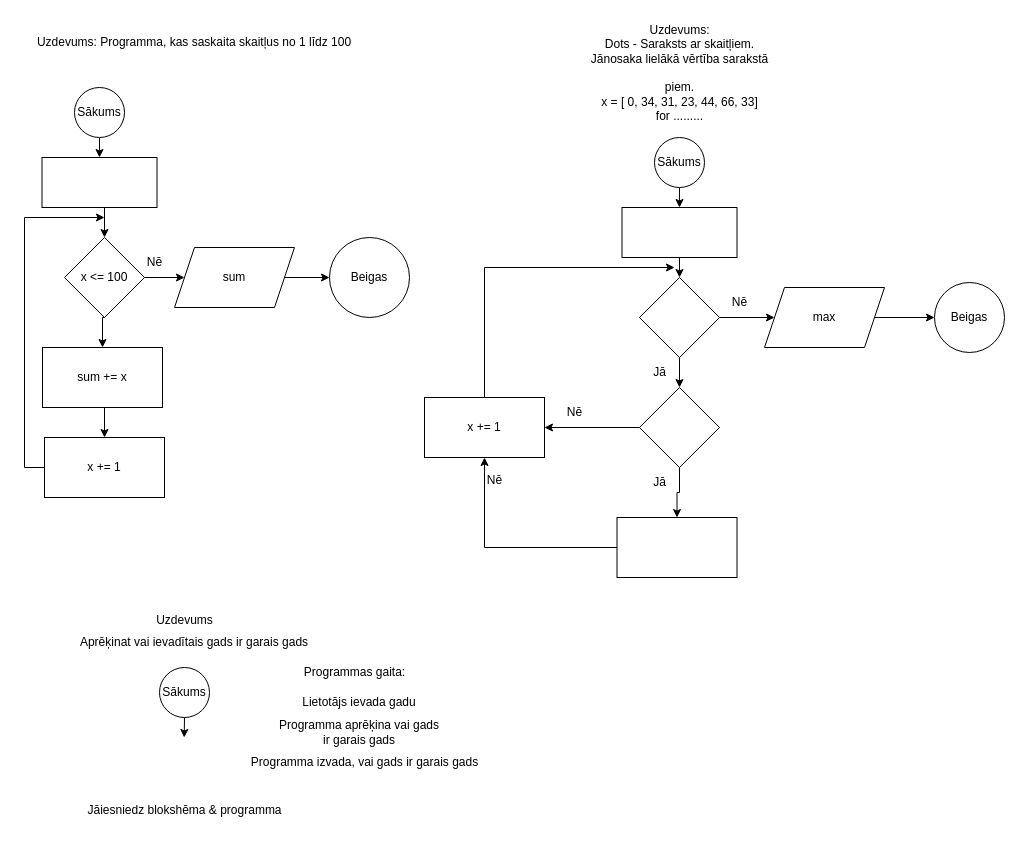
Some shapes in this 1022 by 842 pixel diagram are drawn without their labels. The centre of each missing label's shape, as x and y in pixels:
arr[x] > max: (x=679, y=427)
max = 0 arr = [ skaitļi ] x = 0: (x=679, y=232)
max = arr[x]: (x=676, y=547)
sum = 0 x = 1: (x=99, y=182)
x < arr.length: (x=679, y=317)
